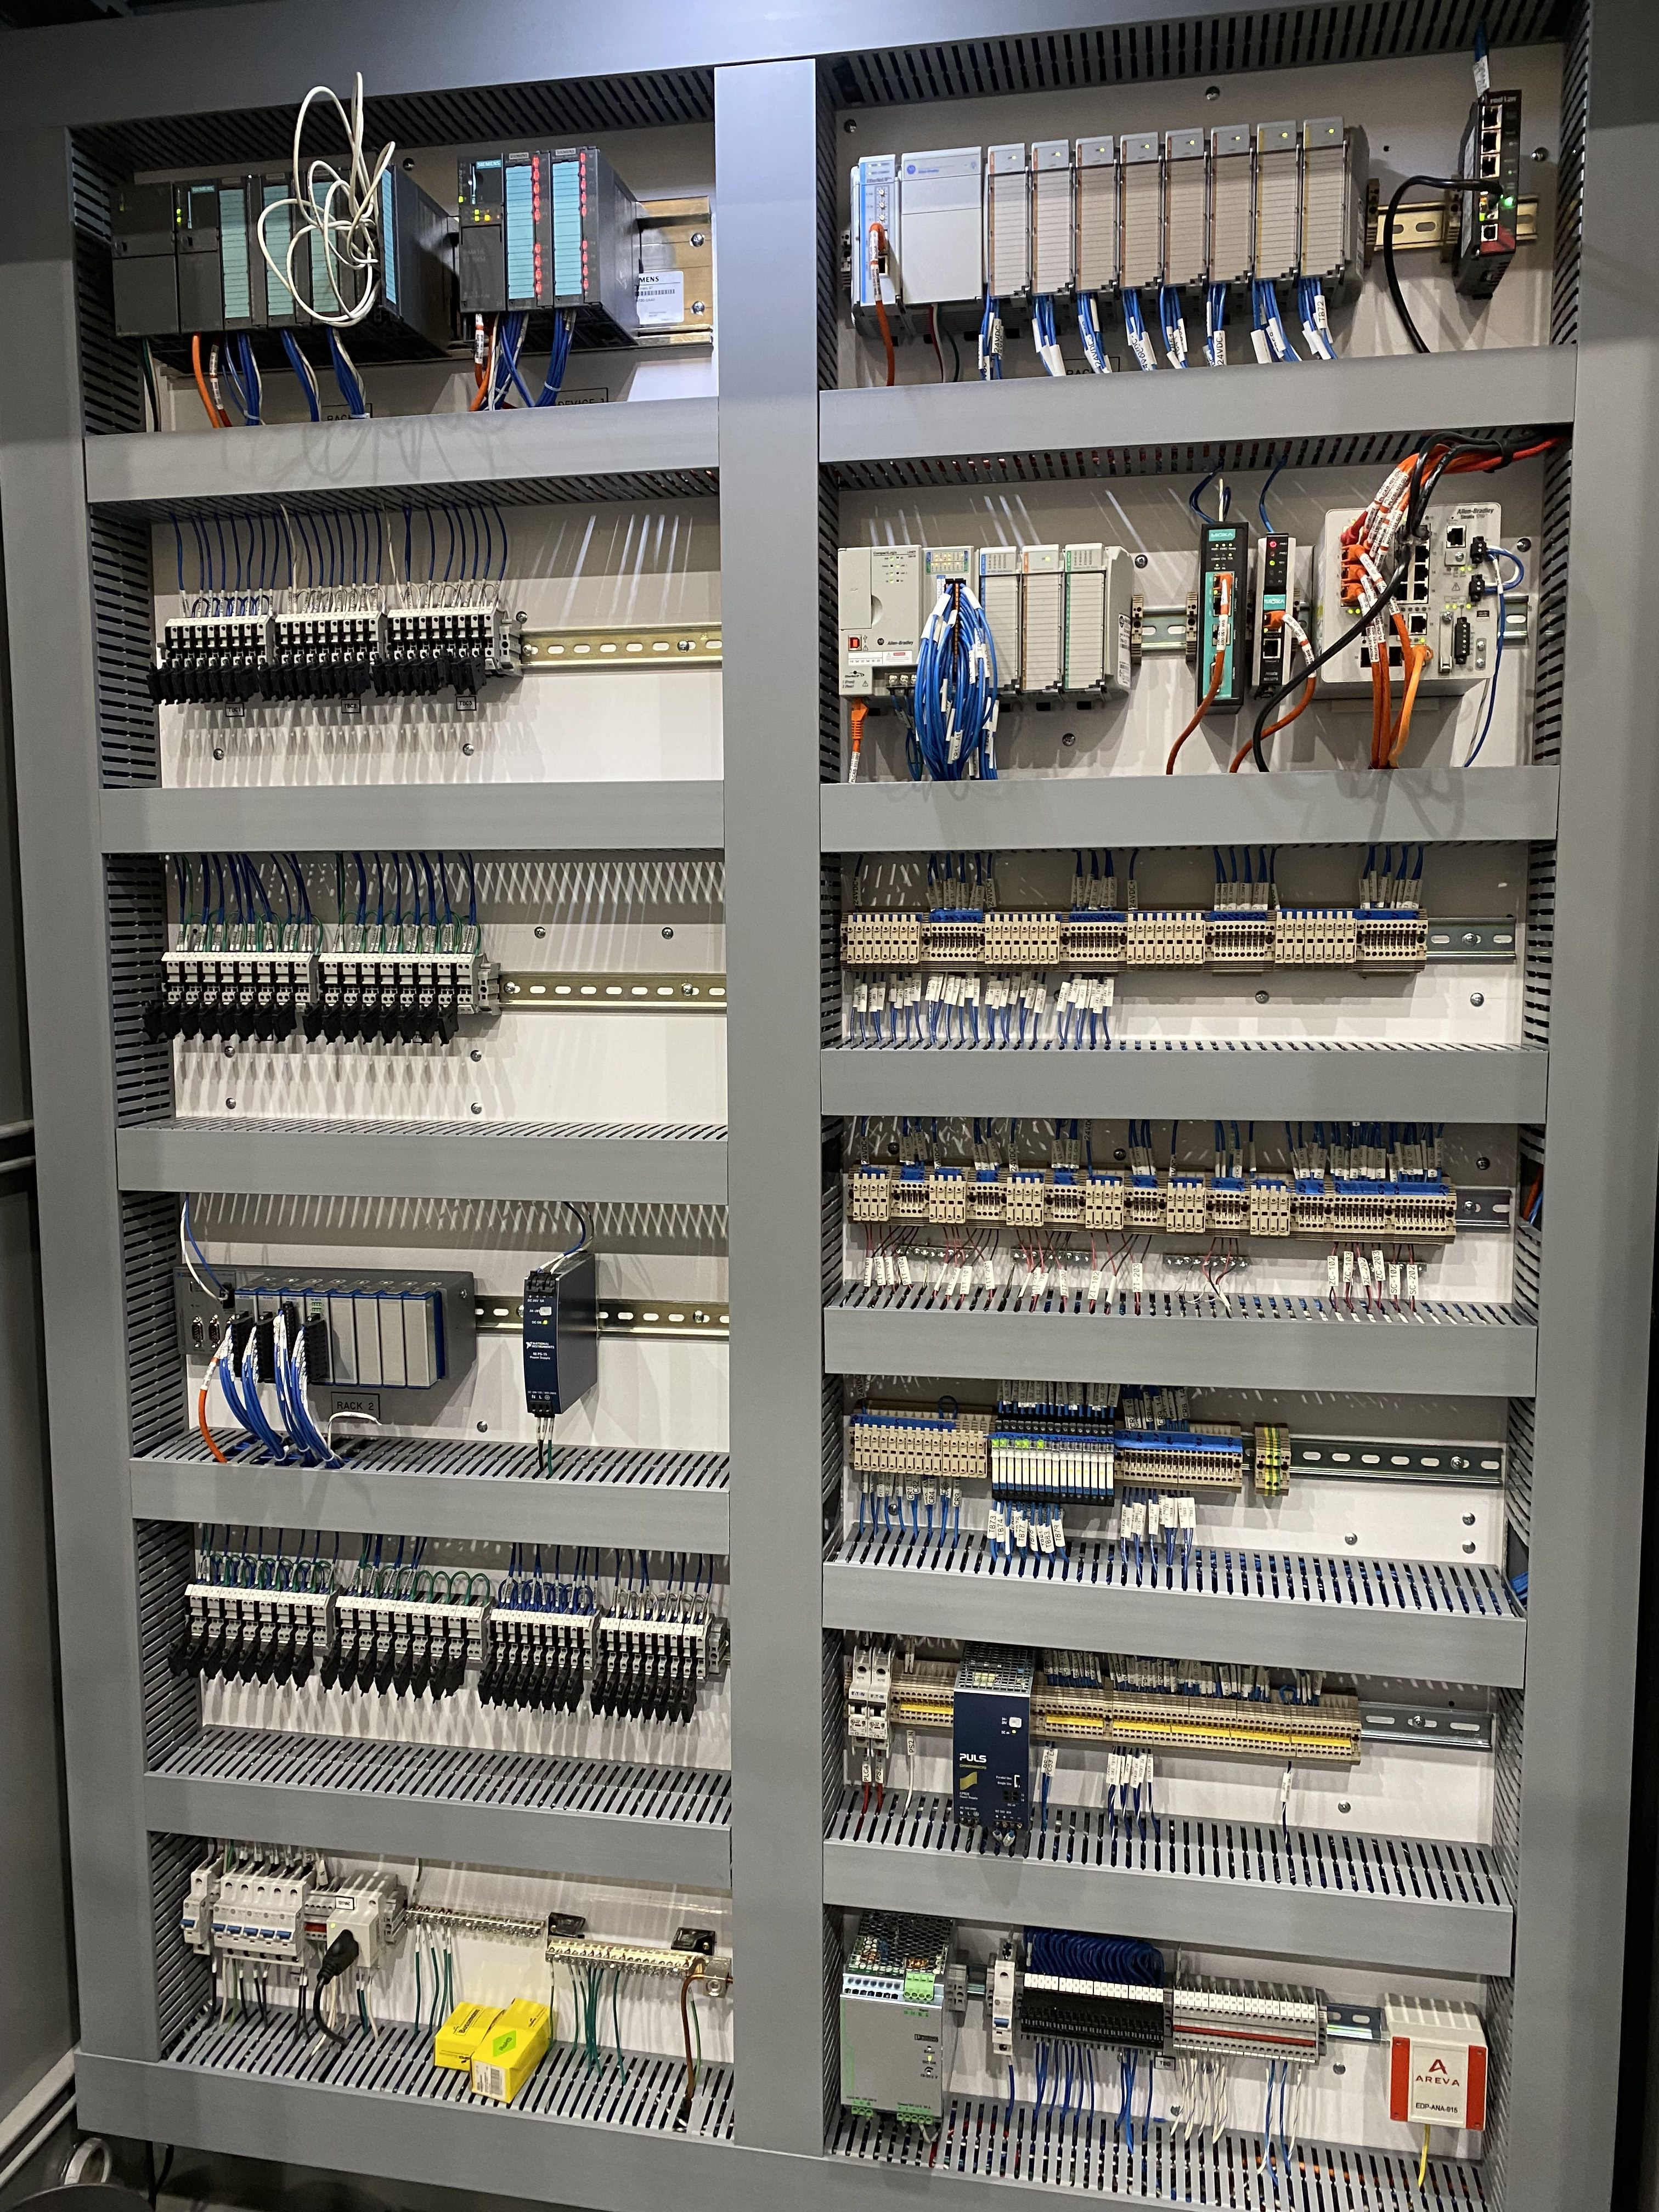AllenBradley: (835, 543, 927, 700)
Siemens: (171, 174, 228, 336)
